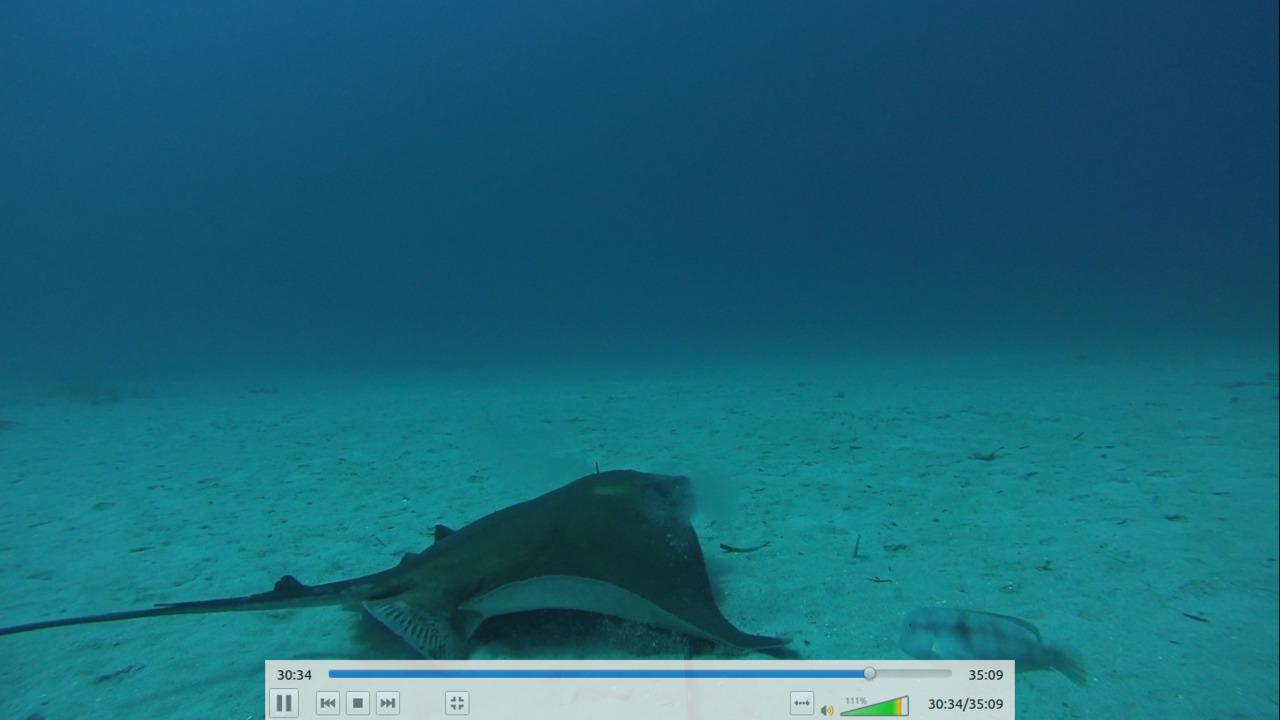myliobatis: (11, 466, 802, 655)
raor: (891, 602, 1089, 686)
